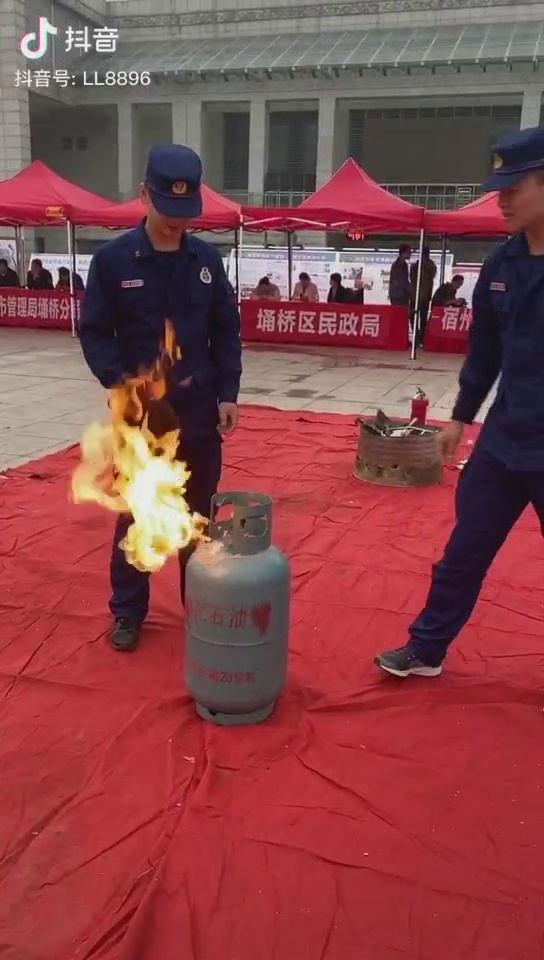fire: (74, 374, 203, 572)
